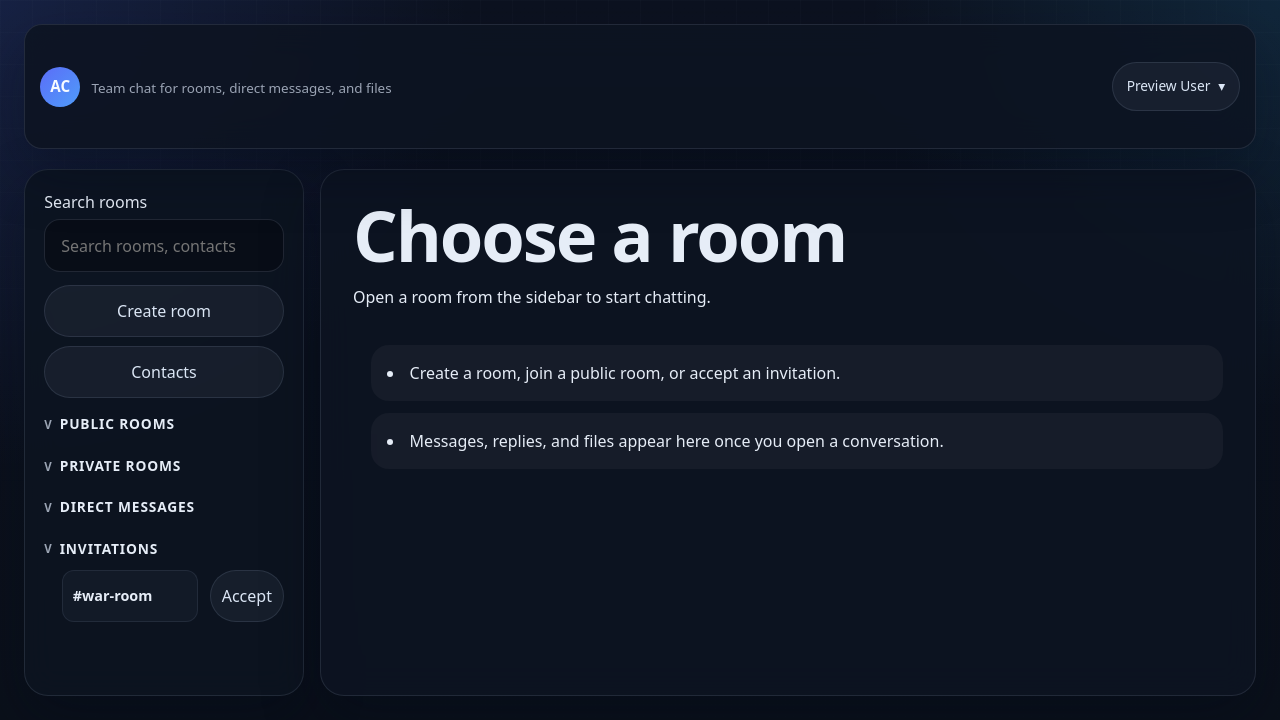
App routes › accepts a private-room invitation from the sidebar
Expected: the button "#war-room" is shown, [62,570,198,622]
Click the button "Accept": (247, 596) [210,570,284,622]
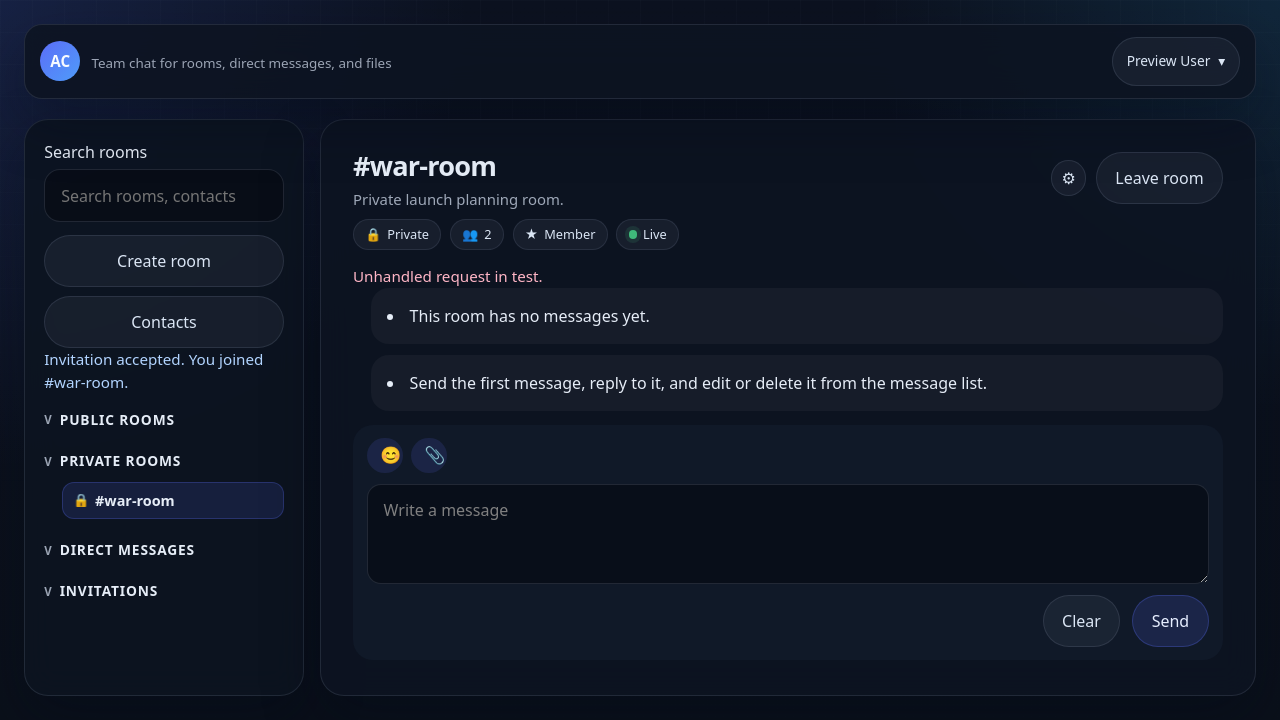
Now the text "Invitation accepted. You joined #war-room." is shown, box [44,348,284,394]
Now the heading "#war-room" is shown, box [353,147,496,184]
